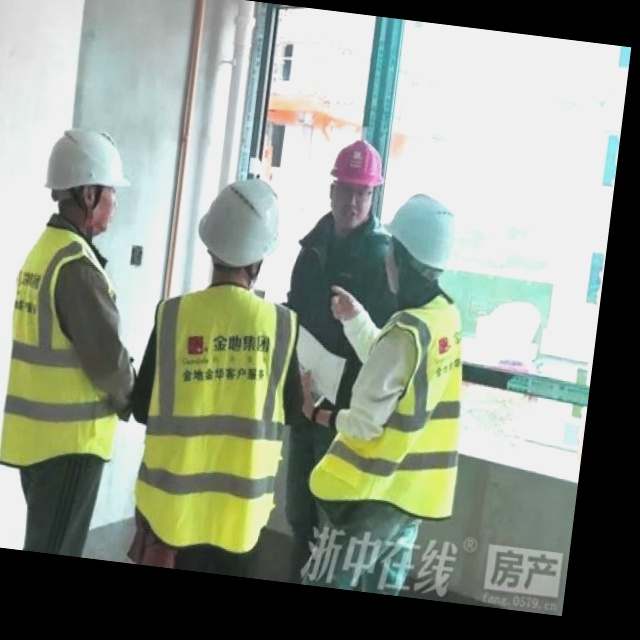Con_Casco: (192, 173, 285, 280), (40, 126, 134, 227)
Con_Chaleco: (131, 279, 300, 555), (311, 295, 477, 515), (0, 221, 144, 468)
